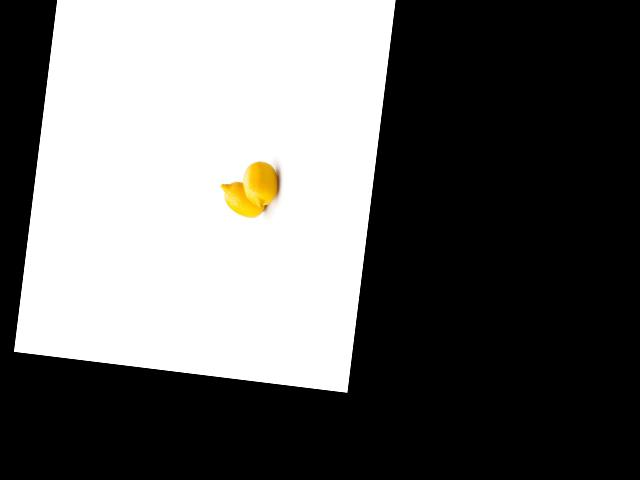lemon: (239, 156, 277, 213)
